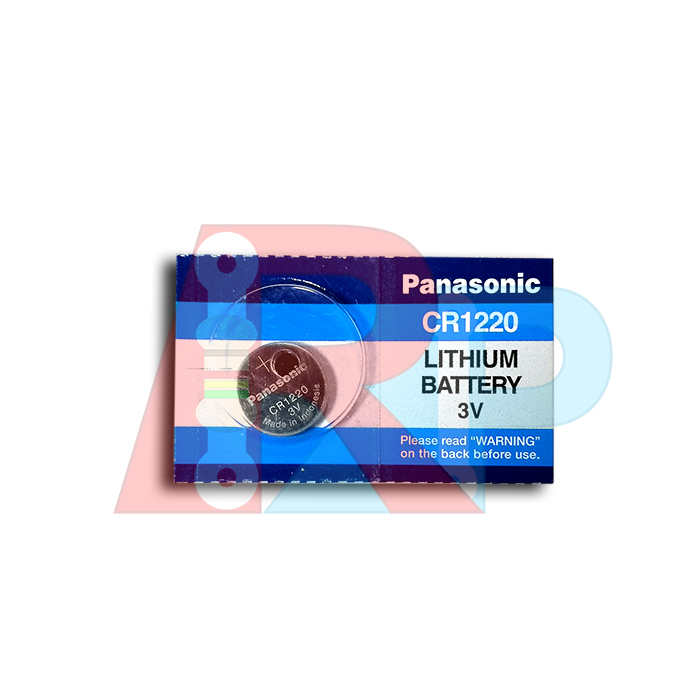Battery: (231, 337, 331, 440)
